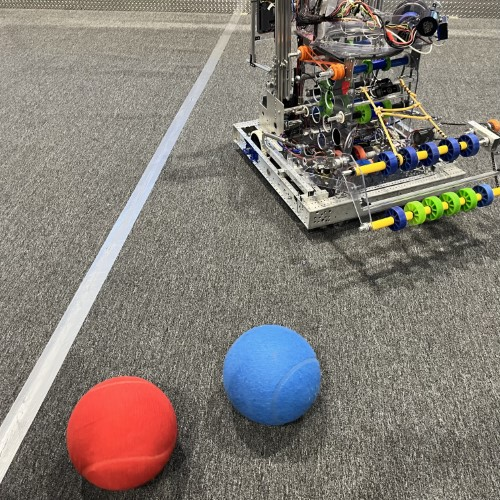blue: (221, 321, 323, 428)
red: (64, 373, 178, 493)
